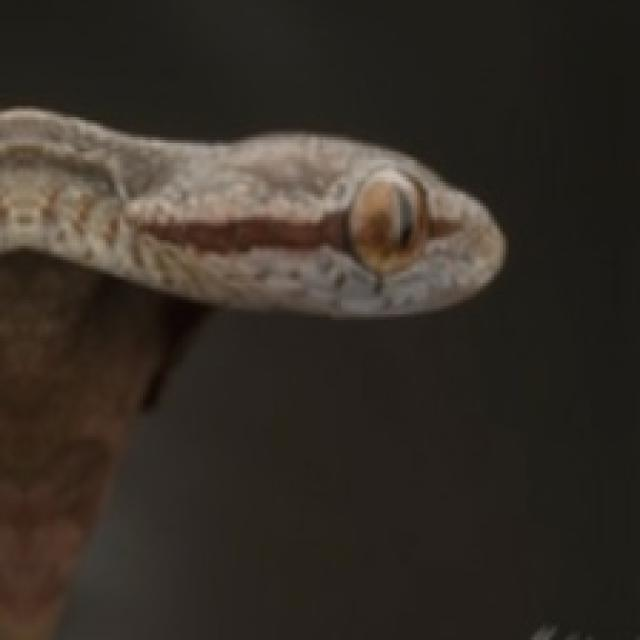dog-toothed cat snake: (0, 109, 503, 314)
